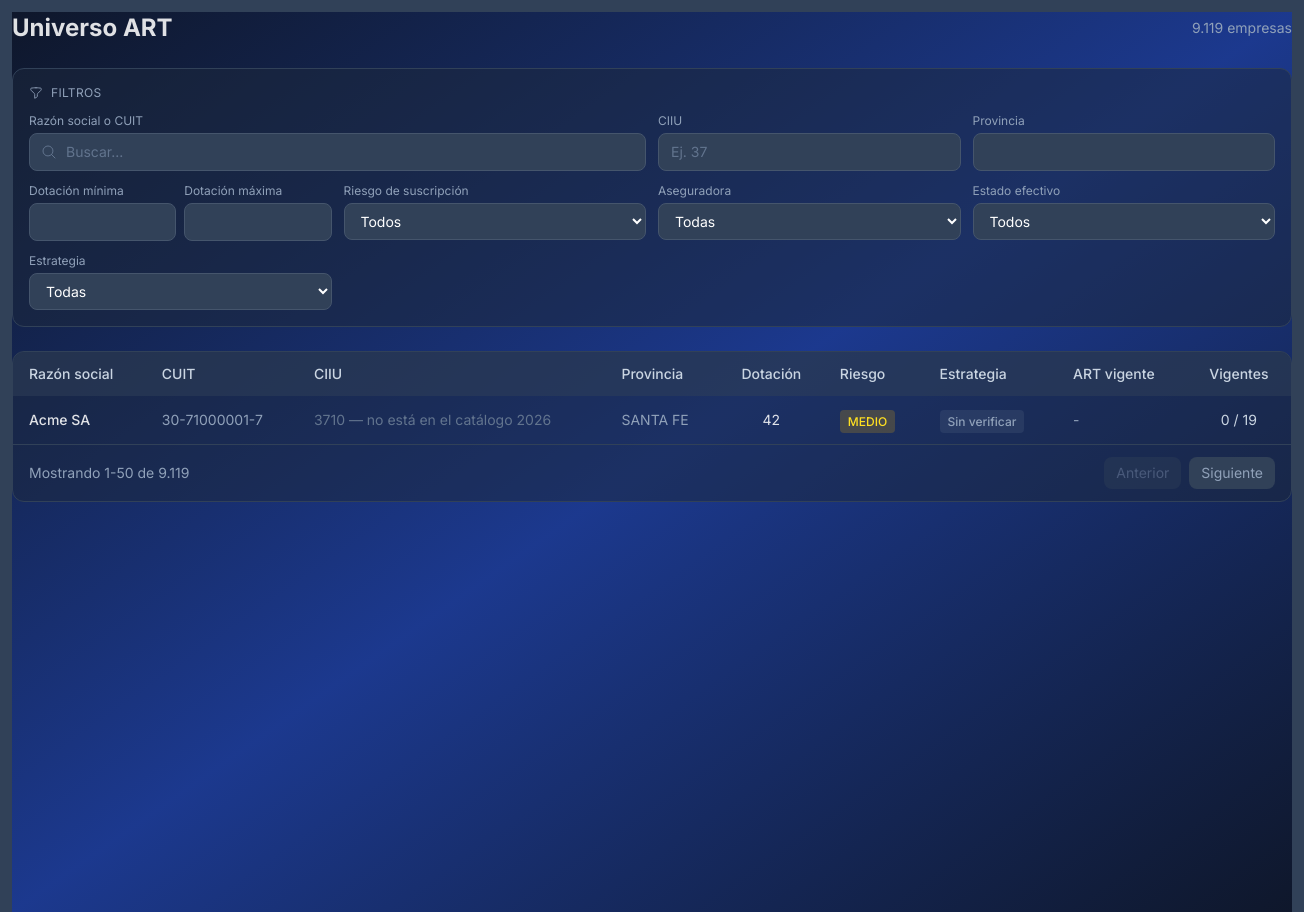
Scenario: ArtCarteraListado - rango de dotación › con el rango inválido no se muestra el estado vacío ni el contador
In the number field labelled "Dotación mínima": (103, 222) [29,203,176,241], type "50"
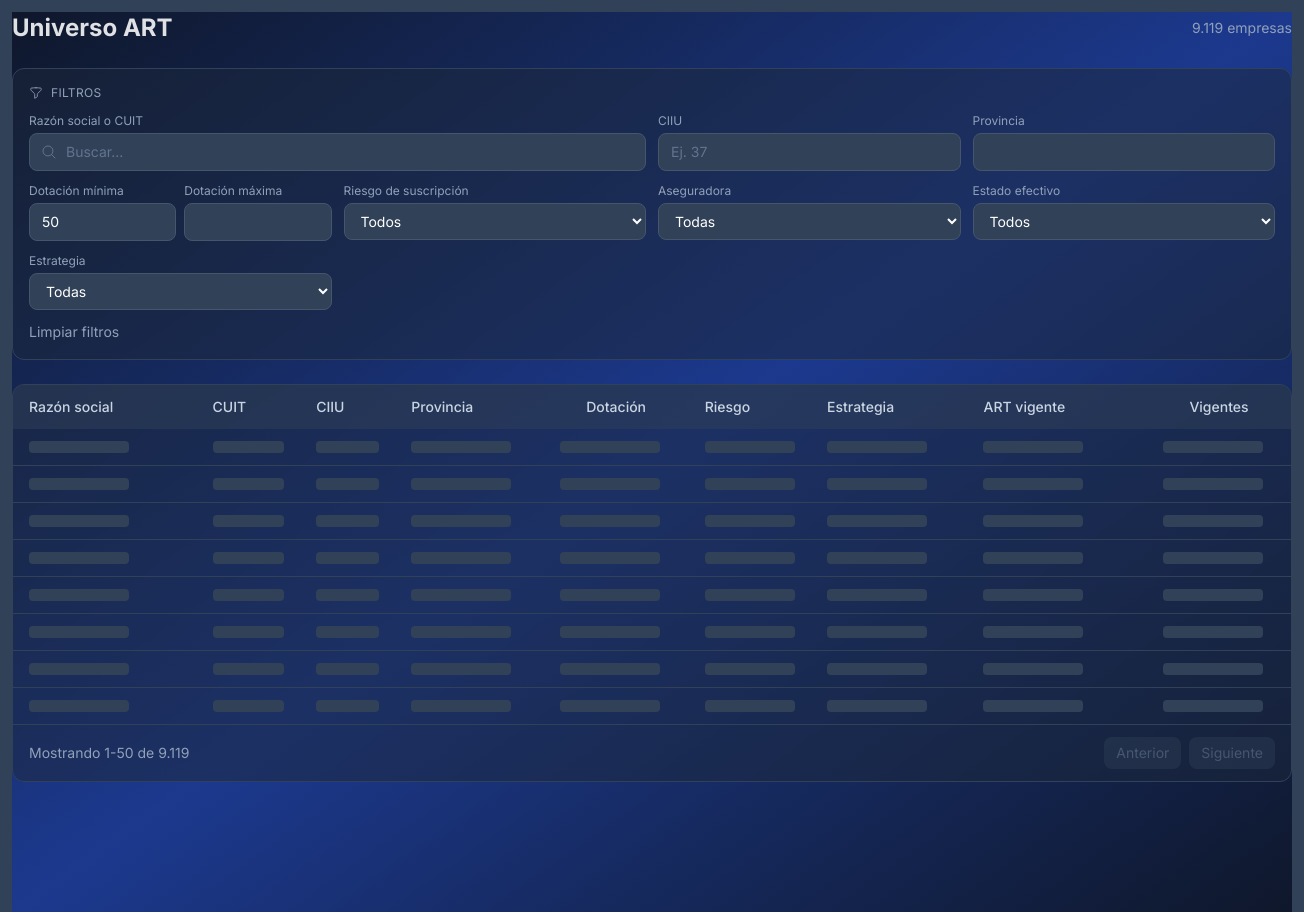
In the number field labelled "Dotación máxima": (258, 222) [184,203,332,241], type "10"
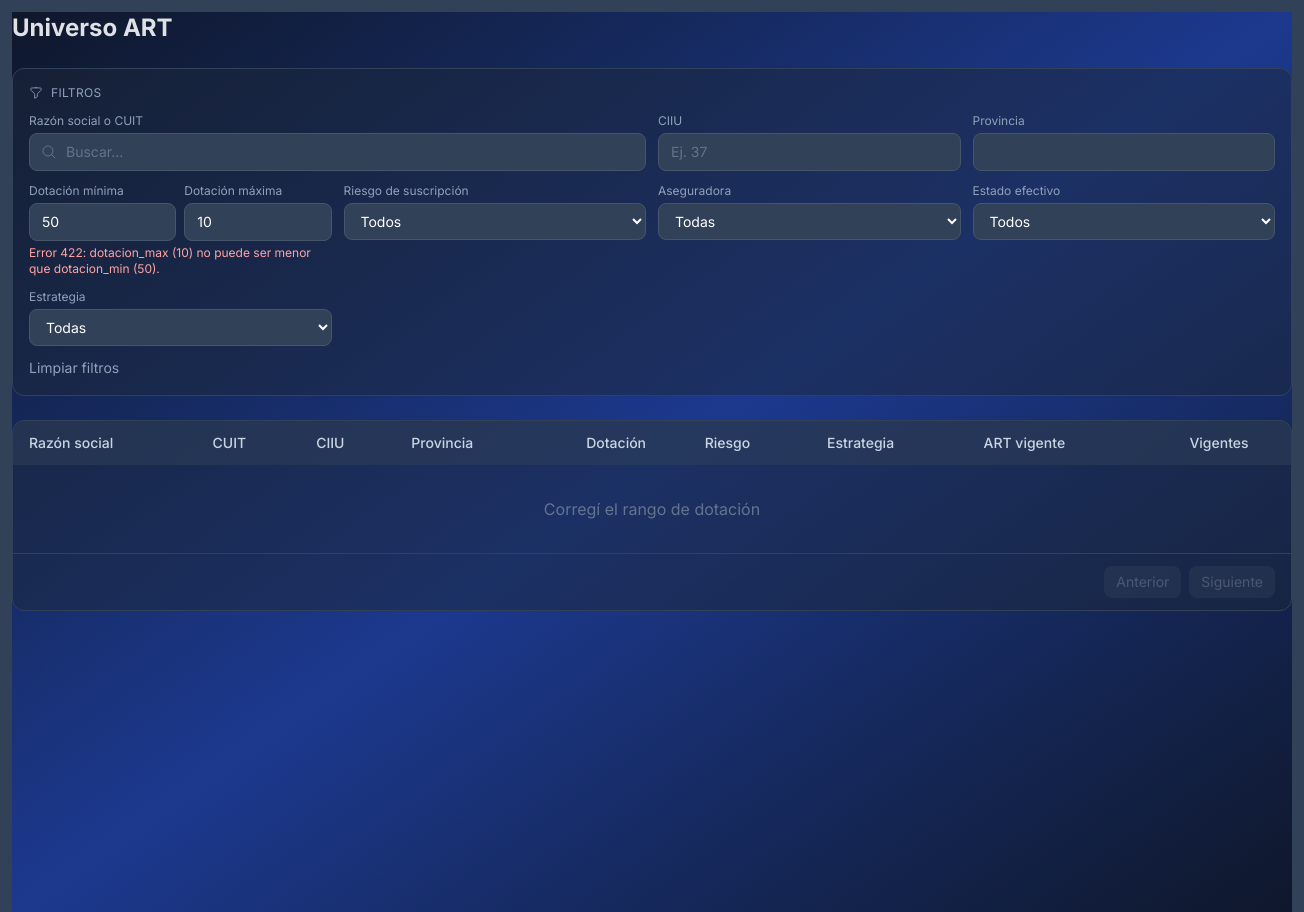
Check: the text "dotacion_max (10) no puede ser menor que dotacion_min (50)." is shown, box [29,245,311,276]
Check: the text "Corregí el rango de dotación" is shown, box [13,465,1291,553]
Check: the text "empresas" is gone
